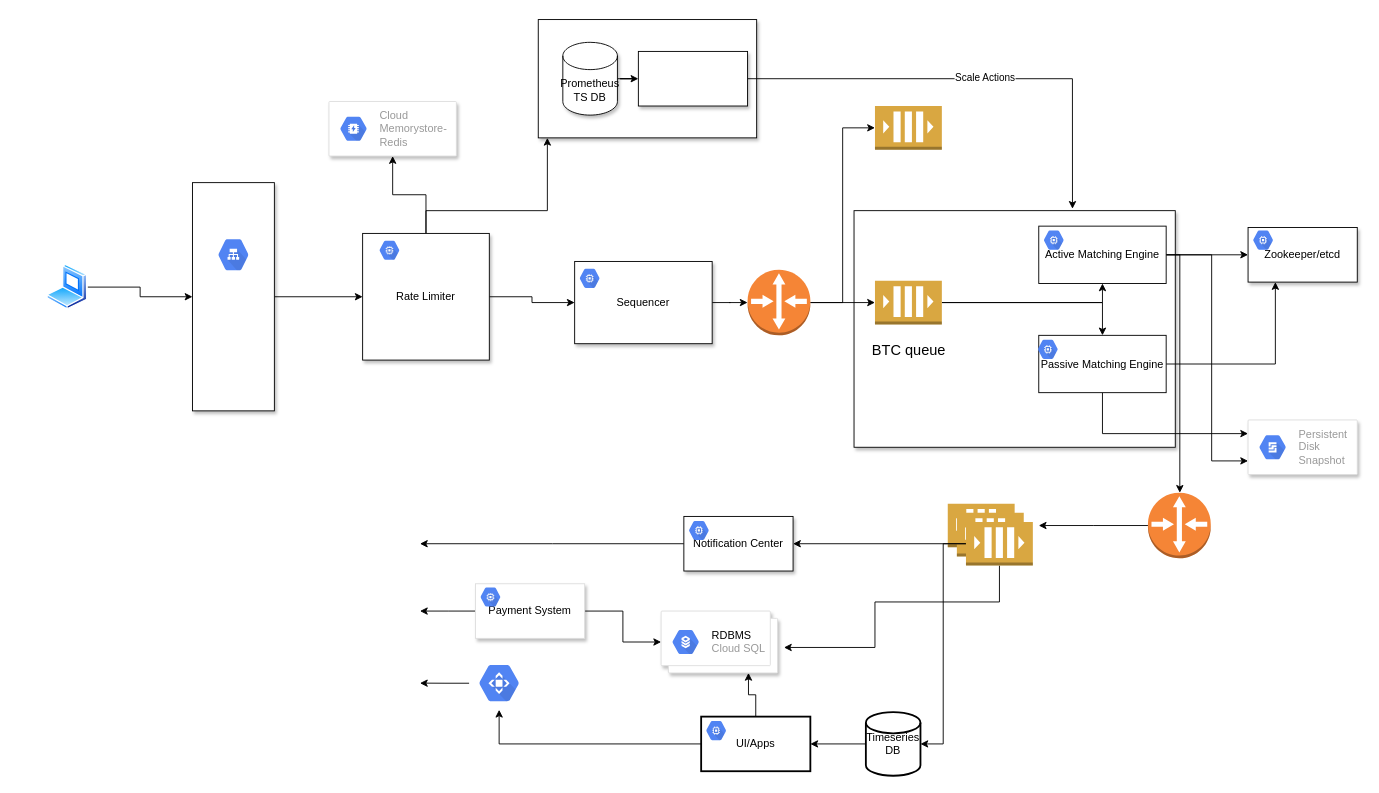
Image size: 1379x793. Some labels were removed from this diagram. Each missing label, with the centre of its shape:
"Alert Manager" goes at (693,79).
"Client/Trading Centre" goes at (66,286).
"Cloud API Gateway Load Balancing" goes at (233,254).
"Cloud CDN" goes at (499,682).
"Compute Engine" goes at (389,250).
"Router" goes at (1179,525).
